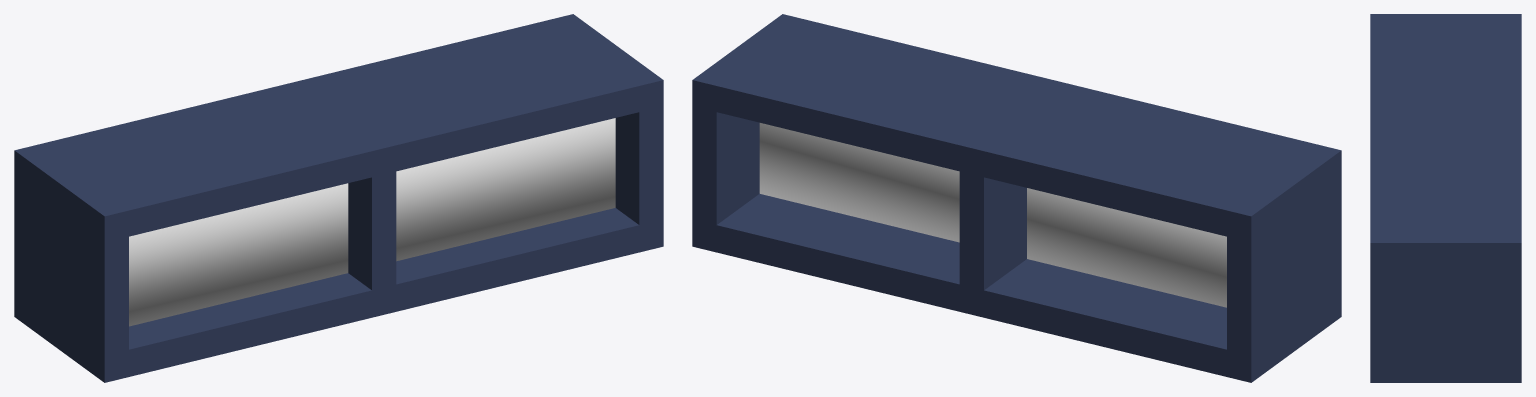
Rendered from ventilasi2.fbx.
3 views of the same model, side by side, from view 1: azimuth 30°, elevation 25°; view 2: azimuth 150°, elevation 25°; view 3: azimuth 270°, elevation 25° (orthographic). The views are drawn at different scales.
Visible parts, largest first — view 1: Cube.001; view 2: Cube.001; view 3: Cube.001.
Boxes of the visible parts, x1,y1,x2,y2 form: Cube.001: [14, 14, 663, 382]; Cube.001: [692, 14, 1341, 382]; Cube.001: [1370, 14, 1521, 382].
Size of the model in its own units: 184 by 52.31 by 51.38.
